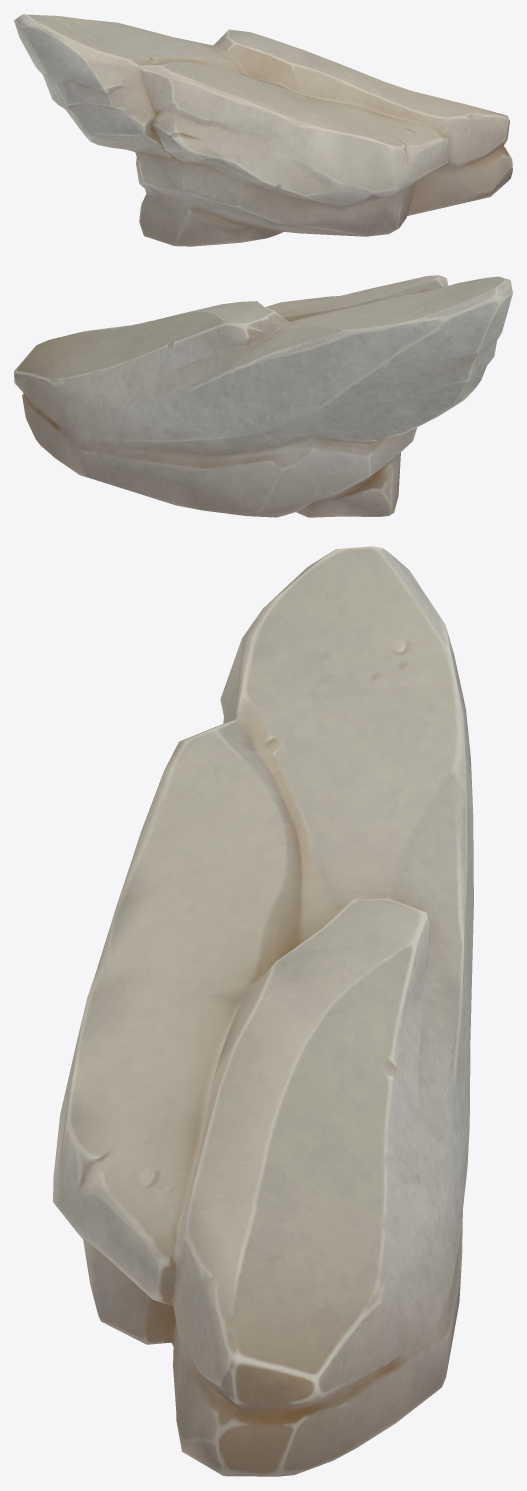
The model's file is rock4.gltf.
3 renders of one model, top to bottom at view 1: azimuth 30°, elevation 25°; view 2: azimuth 150°, elevation 25°; view 3: azimuth 270°, elevation 25°, orthographic. The views are drawn at different scales.
Parts seen in each view (by area): view 1: Rock2; view 2: Rock2; view 3: Rock2.
Boxes of the visible parts, x1=… form: Rock2: x1=14, y1=14, x2=512, y2=246; Rock2: x1=14, y1=275, x2=512, y2=517; Rock2: x1=53, y1=546, x2=473, y2=1476.
Bounding box in the file's own units: 3.6 × 1.88 × 1.43.
Materials: 1 (1 with a texture image).
